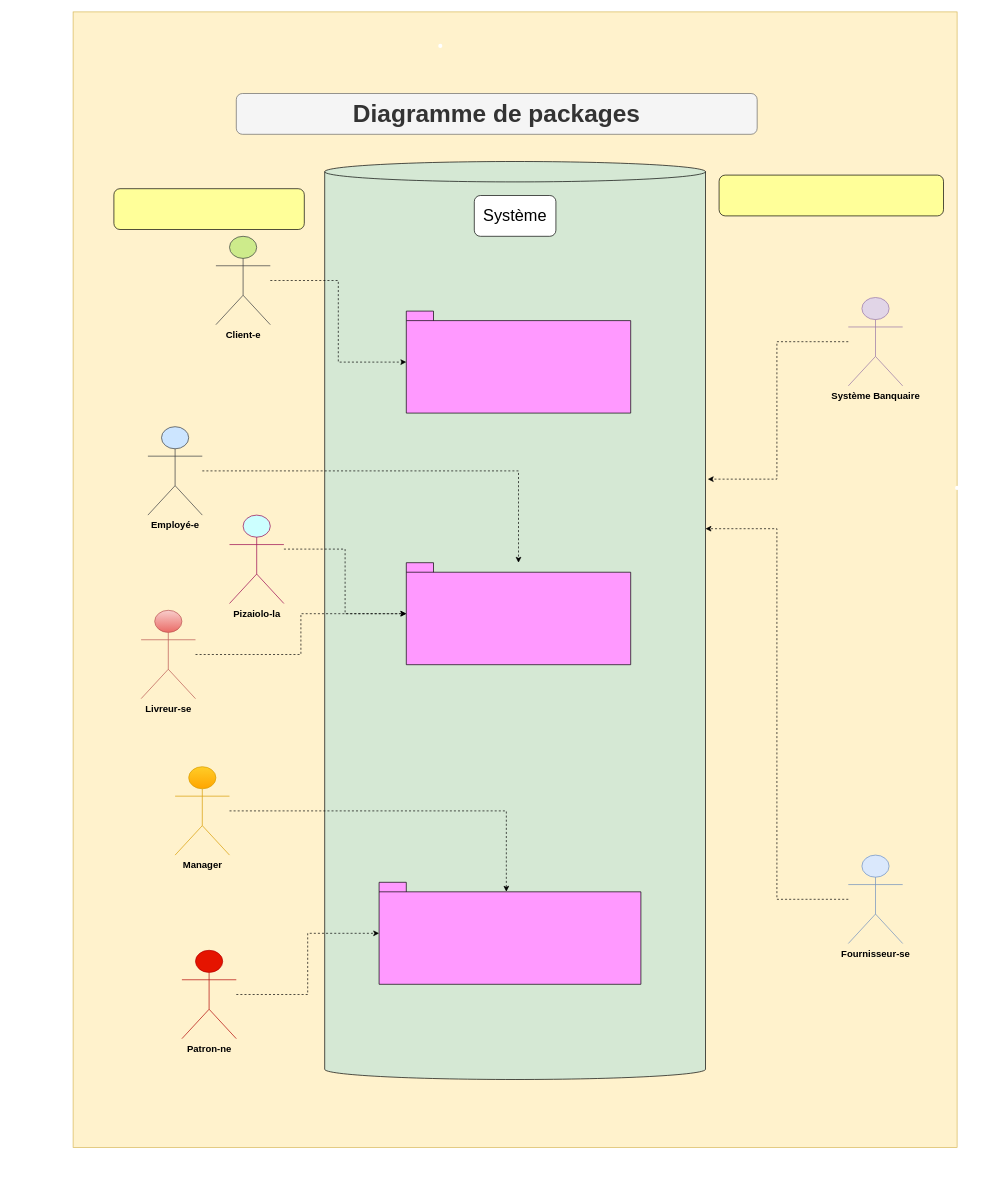
This 983x1193 diagram has some shape labels left out. The shapes that lost their labels are listed below. From the top down, each one's centre as x and y in pixels, then its label:
the point at 208,209: Acteurs principaux
the point at 831,195: Acteurs secondaires
the point at 518,361: Interface web client
the point at 518,613: Interface web restaurant
the point at 509,933: Interface web administration
